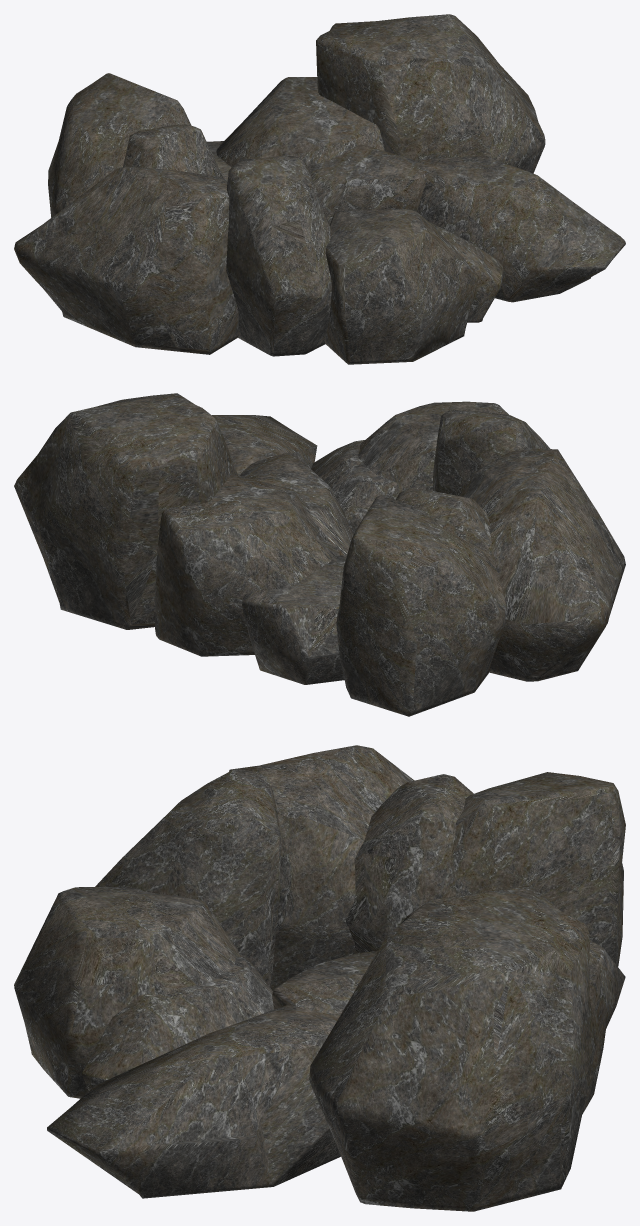
Rendered from scree_cluster_LOD0.fbx.
The picture shows the model from 3 angles, top to bottom: view 1: azimuth 30°, elevation 25°; view 2: azimuth 150°, elevation 25°; view 3: azimuth 270°, elevation 25°; orthographic projection. The views are drawn at different scales.
Visible parts, largest first — view 1: scree_cluster_LOD0; view 2: scree_cluster_LOD0; view 3: scree_cluster_LOD0.
Boxes of the visible parts, <box> form: scree_cluster_LOD0: <box>14,14,625,364</box>; scree_cluster_LOD0: <box>14,393,625,716</box>; scree_cluster_LOD0: <box>14,745,625,1211</box>.
Size of the model in its own units: 420 by 130 by 310.
